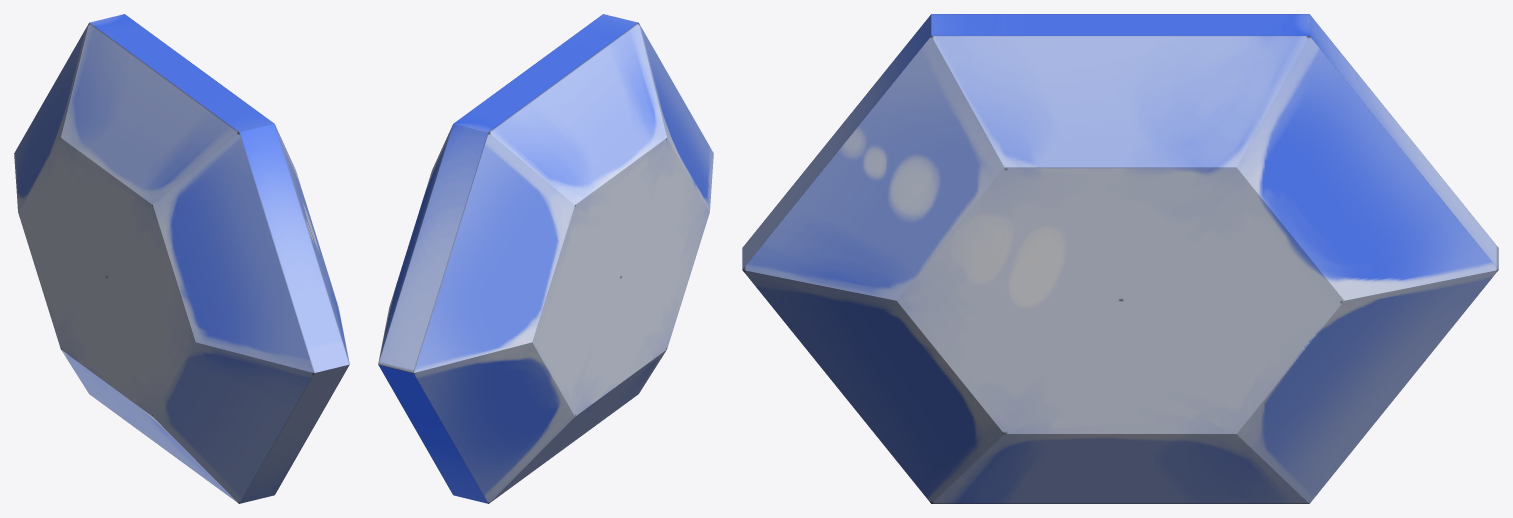
The model's file is blueKEY.fbx.
3 renders of one model, left to right at view 1: azimuth 30°, elevation 25°; view 2: azimuth 150°, elevation 25°; view 3: azimuth 270°, elevation 25°, orthographic. The views are drawn at different scales.
Parts seen in each view (by area): view 1: polySurface8; view 2: polySurface8; view 3: polySurface8.
Boxes of the visible parts, x1,y1,x2,y2 form: polySurface8: (14,14,349,503); polySurface8: (378,14,713,503); polySurface8: (742,14,1498,503).
Bounding box in the file's own units: 0.336 × 0.8338 × 1.22.
Materials: 1 (1 with a texture image).
